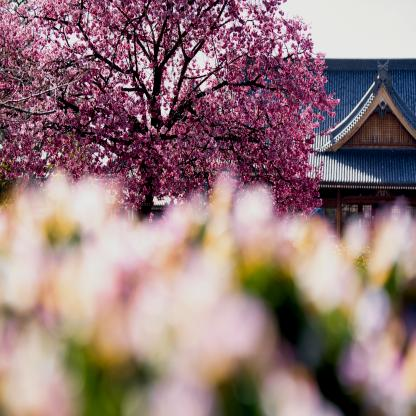KanhiSakura: (0, 0, 341, 222)
